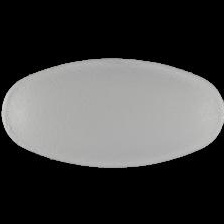0093-0670: (0, 0, 224, 224)
